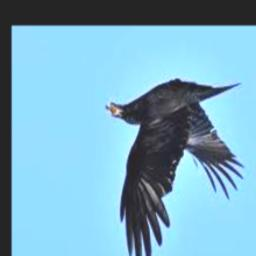Crow: (106, 80, 242, 256)
